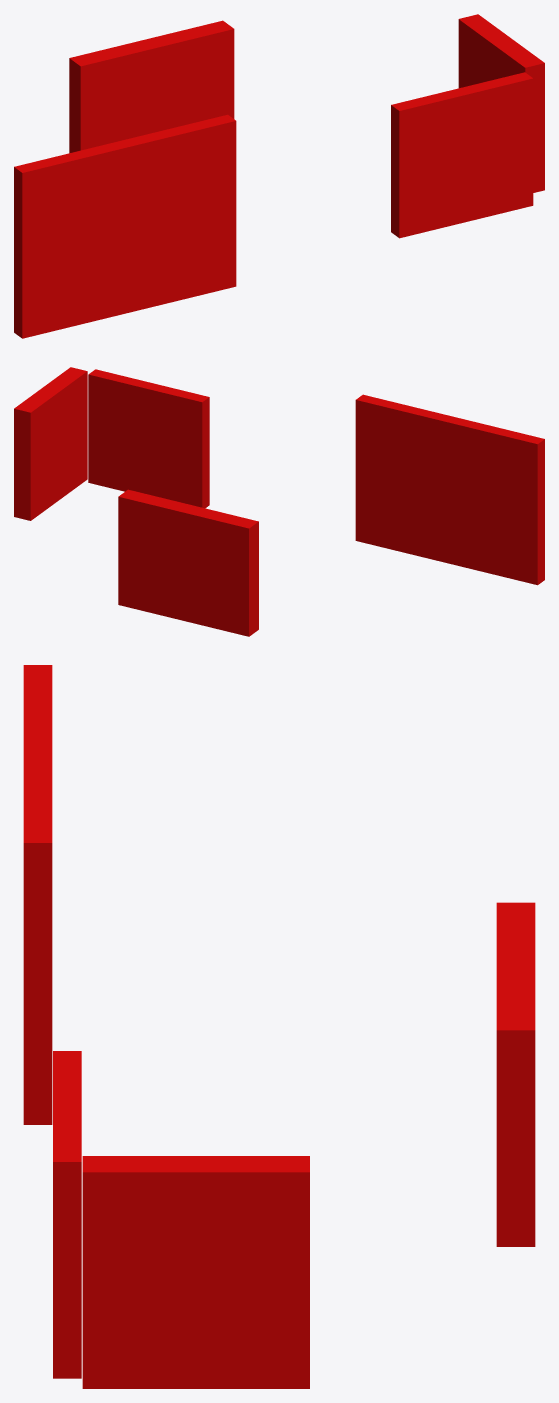
File: SM_Bld_Industrial_Small_01_Barricades_01_Collision.fbx
3 renders of one model, top to bottom at view 1: azimuth 30°, elevation 25°; view 2: azimuth 150°, elevation 25°; view 3: azimuth 270°, elevation 25°, orthographic. The views are drawn at different scales.
Parts seen in each view (by area): view 1: SM_Bld_Industrial_Small_01_Barricades_01_Collision; view 2: SM_Bld_Industrial_Small_01_Barricades_01_Collision; view 3: SM_Bld_Industrial_Small_01_Barricades_01_Collision.
Part boxes in pixels (x1,y1,x2,y2): SM_Bld_Industrial_Small_01_Barricades_01_Collision: (14, 14, 544, 338); SM_Bld_Industrial_Small_01_Barricades_01_Collision: (14, 367, 544, 636); SM_Bld_Industrial_Small_01_Barricades_01_Collision: (23, 665, 535, 1388).
Size of the model in its own units: 648 by 196 by 312.
